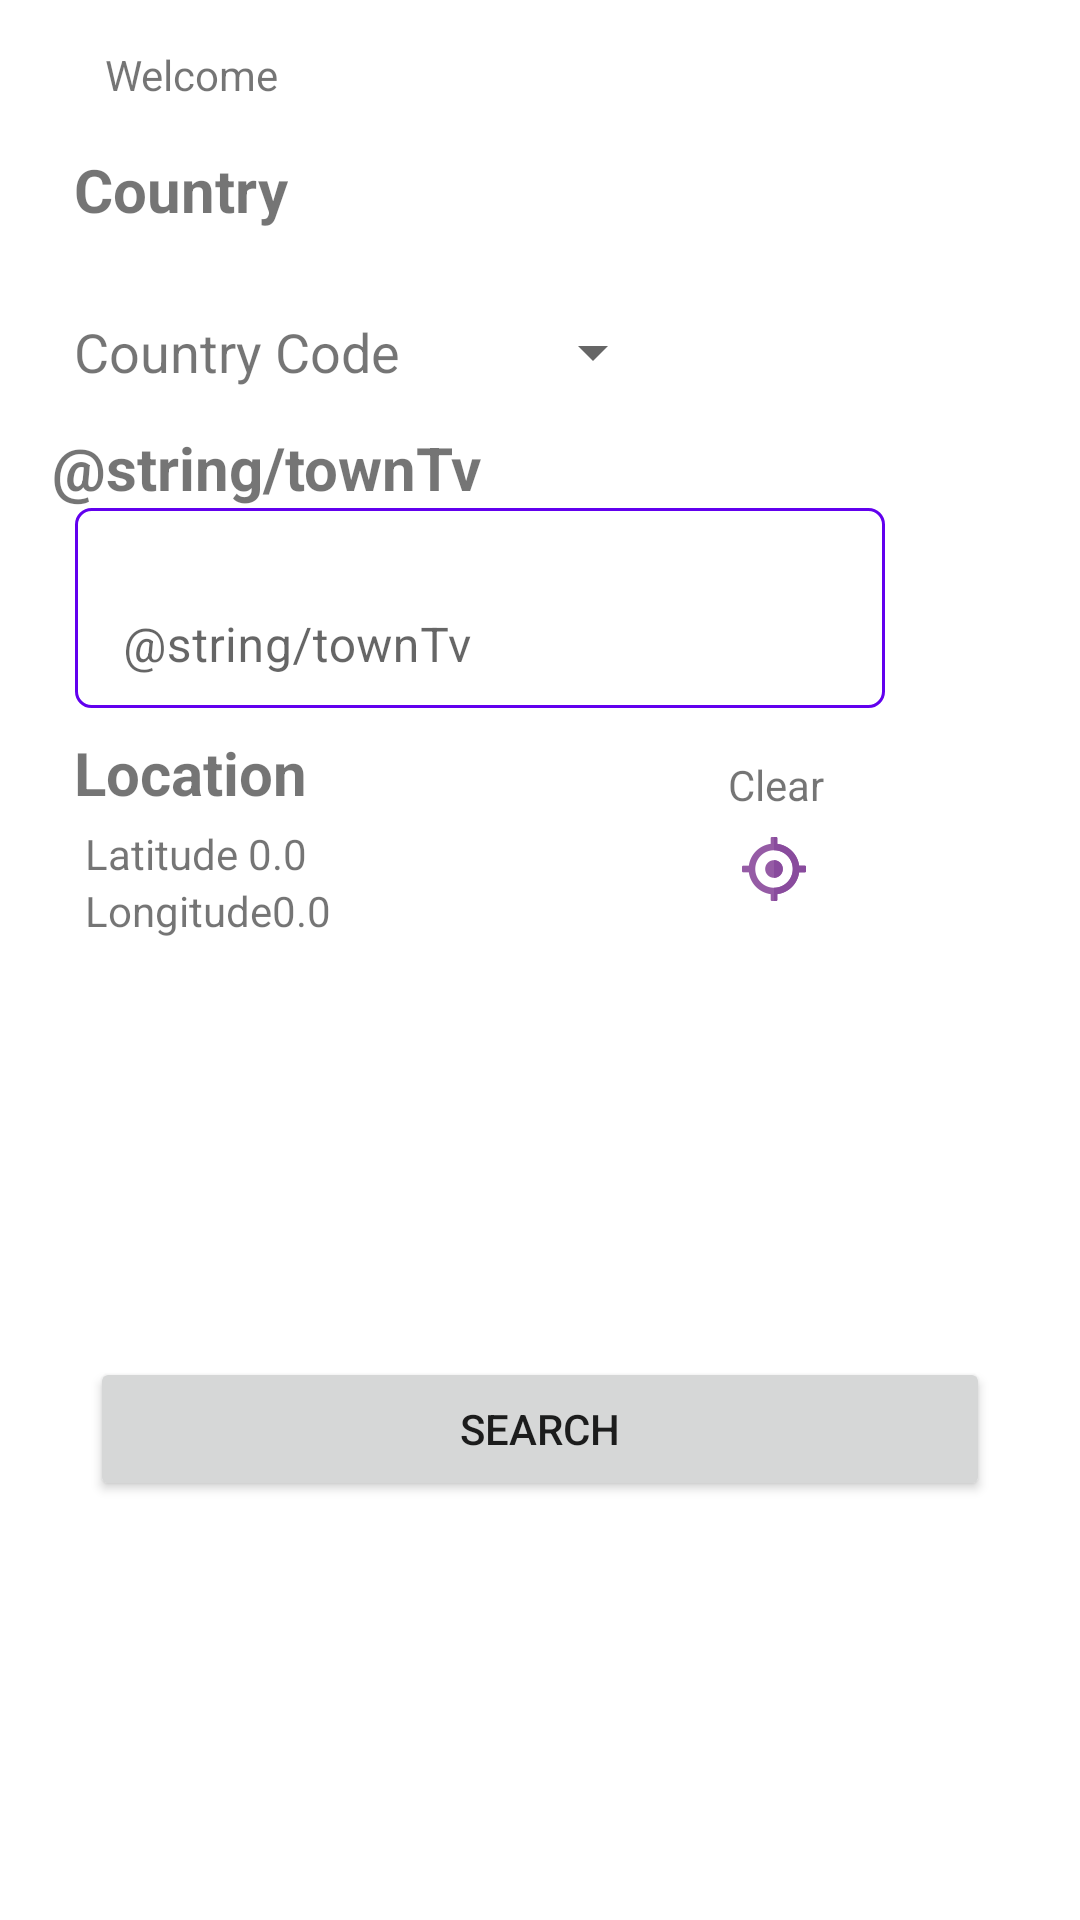

Screen size 1080 × 1920. Icon name, then its box in pixels as [x1, y1, x2, y2]:
GPS Button: [742, 837, 806, 901]
